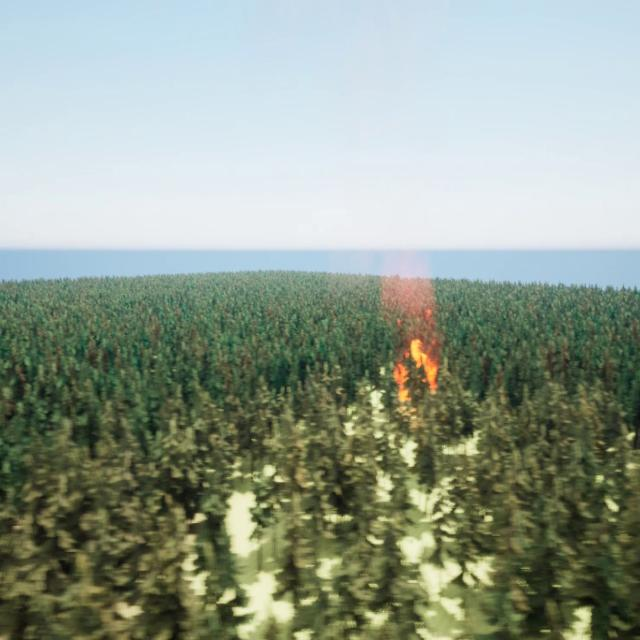fire: (392, 333, 438, 405)
smoke: (380, 252, 440, 334)
